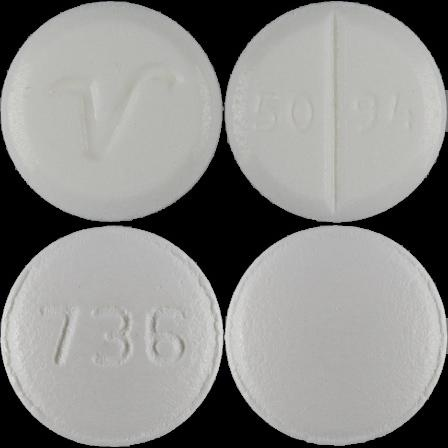33261-780: (0, 0, 224, 224)
